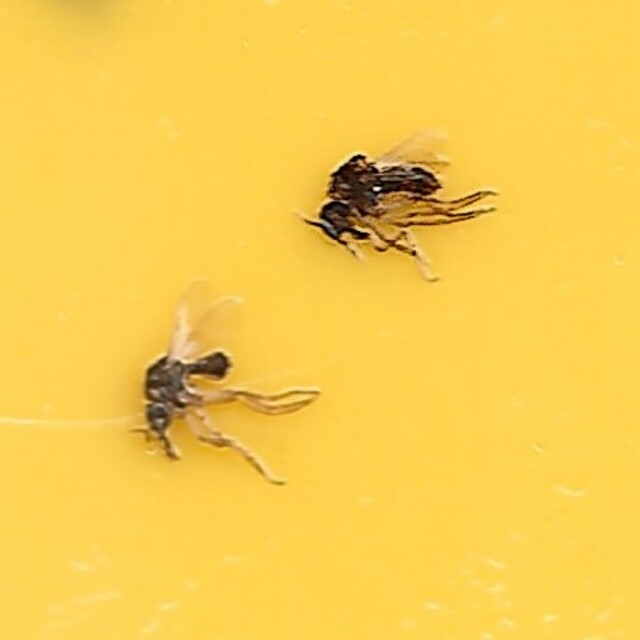Brachycera: (134, 340, 319, 493), (311, 147, 506, 282)
